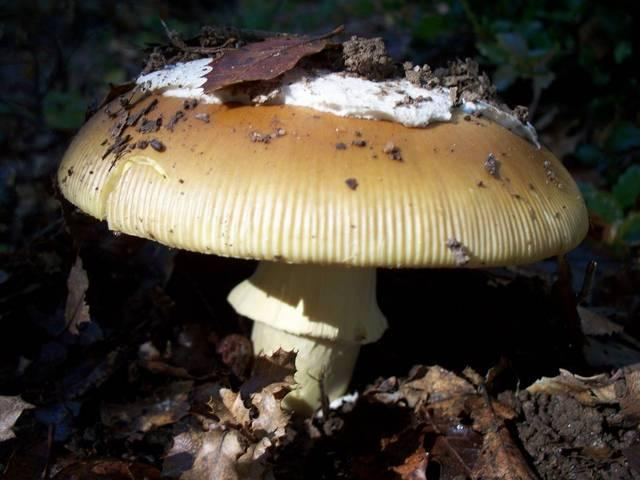Edible Mushroom: (55, 37, 590, 418)
